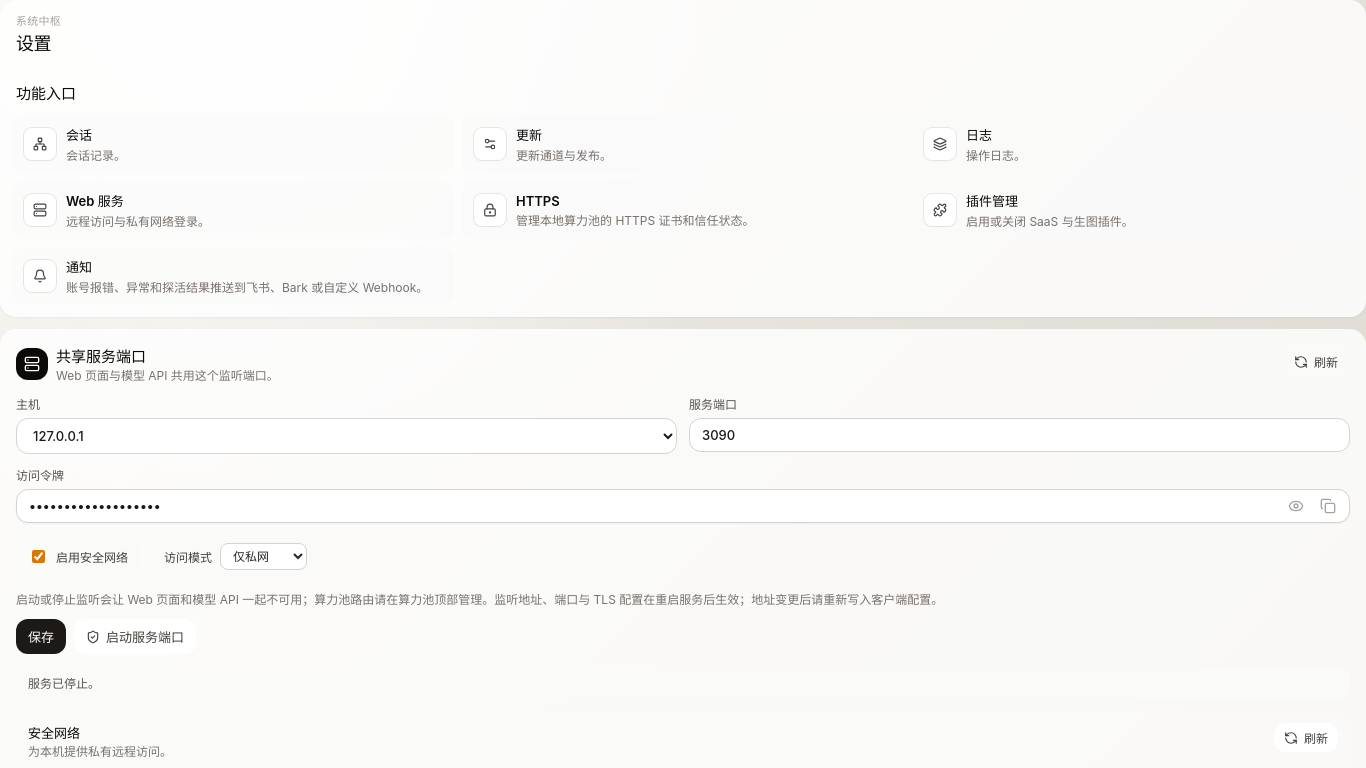
Test: SettingsScreen › shows untrusted guidance without blocking HTTPS controls
Click the button "HTTPS 管理本地算力池的 HTTPS 证书和信任状态。" at (683, 210), box 462,181 -> 904,239
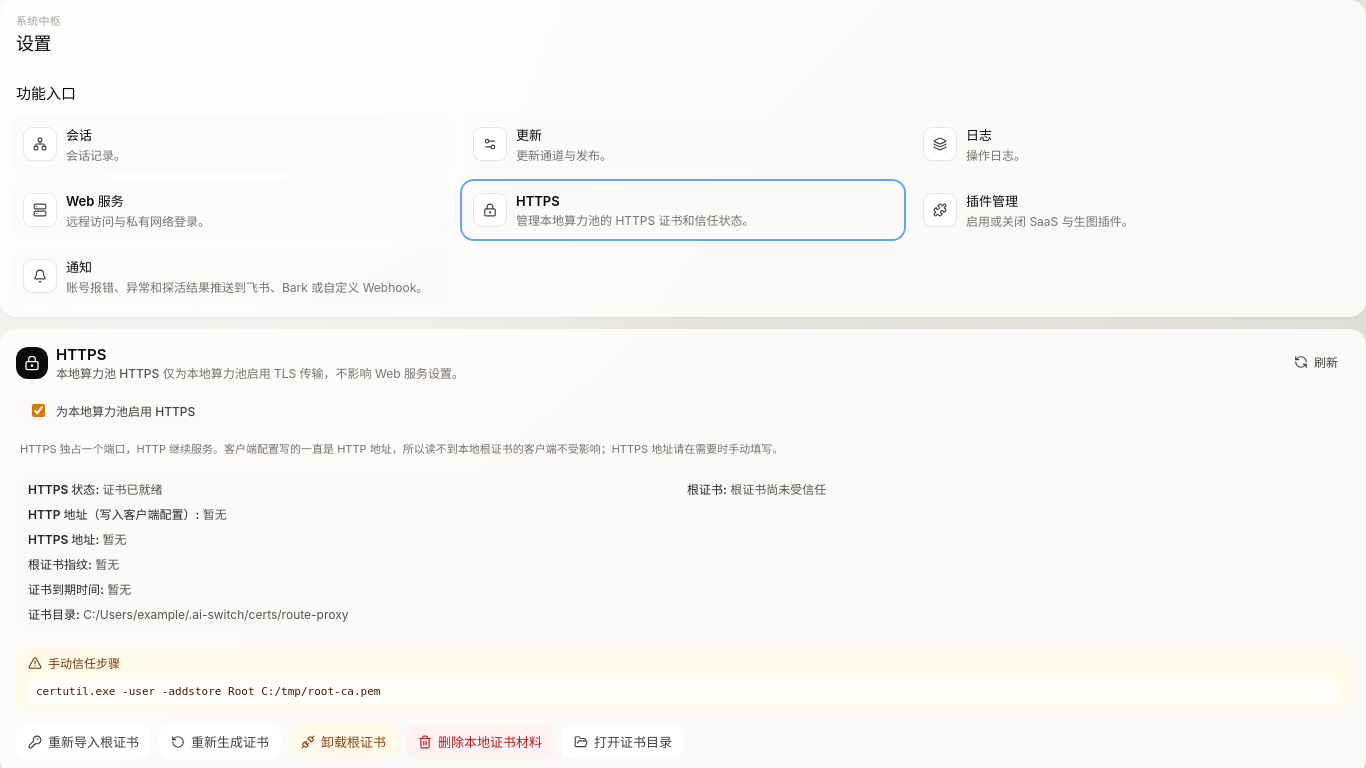
Expected: the text "根证书尚未受信任" is shown, 730,482 -> 826,497
Expected: the text "certutil.exe -user -addstore Root C:/tmp/root-ca.pem" is shown, 28,679 -> 1338,704
Expected: the button "重新导入根证书" is enabled, 16,724 -> 151,759
